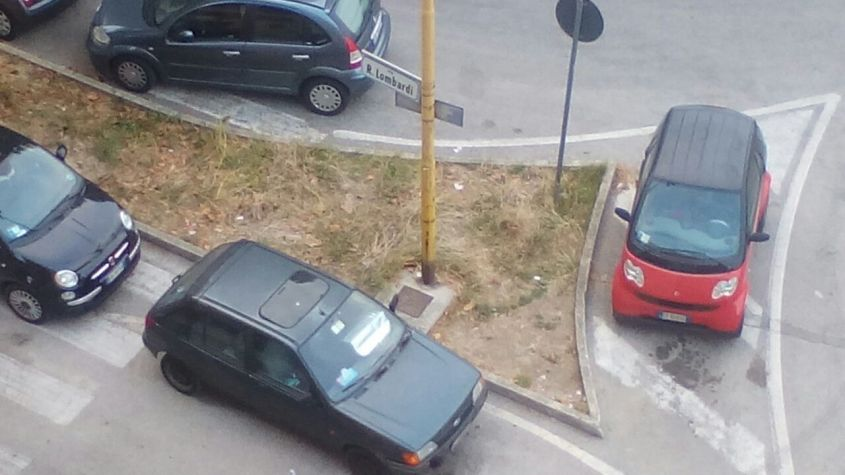car: (143, 238, 493, 475), (610, 102, 772, 342), (83, 1, 393, 118), (1, 123, 145, 326)
